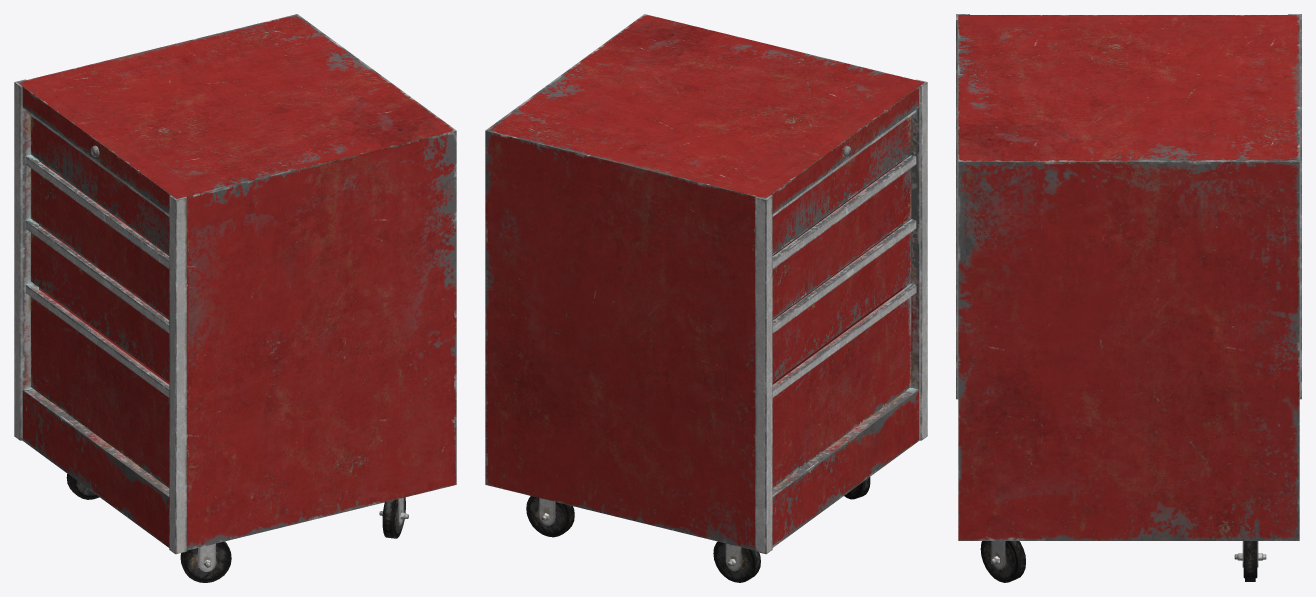
File: SM_ToolCabinet_01.fbx
3 renders of one model, left to right at view 1: azimuth 30°, elevation 25°; view 2: azimuth 150°, elevation 25°; view 3: azimuth 270°, elevation 25°, orthographic. The views are drawn at different scales.
Parts seen in each view (by area): view 1: SM_ToolCabinet_01_LOD0; view 2: SM_ToolCabinet_01_LOD0; view 3: SM_ToolCabinet_01_LOD0.
Boxes of the visible parts, <box> form: SM_ToolCabinet_01_LOD0: <box>14,14,456,582</box>; SM_ToolCabinet_01_LOD0: <box>485,14,927,582</box>; SM_ToolCabinet_01_LOD0: <box>956,14,1301,582</box>.
Bounding box in the file's own units: 57.81 × 56.9 × 79.9.
Materials: 1 (1 with a texture image).
